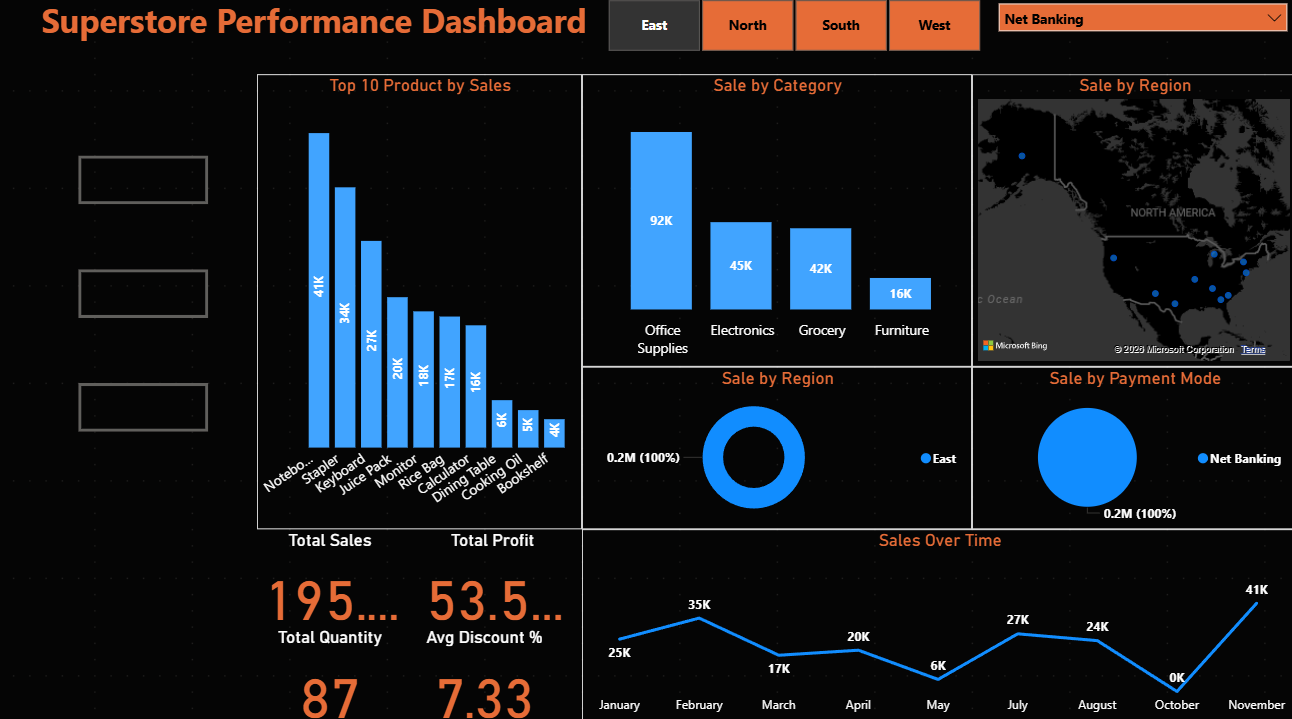

What the dashboard file says about the page in this screenshot:
{"tool":"powerbi","page":{"name":"Page 1","canvas":[1280,720],"ordinal":0},"visuals":[{"type":"actionButton","box":[80,160,128,48],"z":0},{"type":"actionButton","box":[80,384,128,48],"z":1000},{"type":"actionButton","box":[80,272,128,48],"z":2000},{"type":"textbox","box":[16,0,592,64],"z":3000},{"type":"slicer","fields":{"Values":["Superstore_Management_System.Region"]},"box":[576,0,416,64],"z":4000},{"type":"slicer","fields":{"Values":["Superstore_Management_System.Payment Mode"]},"box":[976,0,304,64],"z":5000},{"type":"clusteredColumnChart","title":"Sale by Category","fields":{"Category":["Superstore_Management_System.Category"],"Y":["Sum(Superstore_Management_System.Sales Amount)"]},"box":[576,80,384,288],"z":6000},{"type":"map","title":"Sale by Region","fields":{"Category":["Superstore_Management_System.State"],"Series":["Superstore_Management_System.Region"]},"box":[960,80,320,288],"z":7000},{"type":"donutChart","title":"Sale by Region","fields":{"Category":["Superstore_Management_System.Region"],"Y":["Sum(Superstore_Management_System.Sales Amount)"]},"box":[576,368,384,160],"z":8000},{"type":"pieChart","title":"Sale by Payment Mode","fields":{"Category":["Superstore_Management_System.Payment Mode"],"Y":["Sum(Superstore_Management_System.Sales Amount)"]},"box":[960,368,320,160],"z":9000},{"type":"lineChart","title":"Sales Over Time","fields":{"Category":["Superstore_Management_System.Order Date.Variation.Date Hierarchy.Month"],"Y":["Sum(Superstore_Management_System.Sales Amount)"]},"box":[576,528,704,192],"z":10000},{"type":"clusteredColumnChart","title":"Top 10 Product by Sales","fields":{"Category":["Superstore_Management_System.Product Name"],"Y":["Sum(Superstore_Management_System.Sales Amount)"]},"box":[256,80,320,448],"z":11000},{"type":"cardVisual","title":"Total Sales","fields":{"Data":["Sum(Superstore_Management_System.Sales Amount)"]},"box":[240,528,176,96],"z":12000},{"type":"cardVisual","title":"Total Profit","fields":{"Data":["Sum(Superstore_Management_System.Profit)"]},"box":[400,528,176,96],"z":13000},{"type":"cardVisual","title":"Total Quantity","fields":{"Data":["Sum(Superstore_Management_System.Quantity)"]},"box":[240,624,176,96],"z":14000},{"type":"cardVisual","title":"Avg Discount %","fields":{"Data":["Avg(Superstore_Management_System.Discount (%))"]},"box":[384,624,192,96],"z":15000}]}

Visuals, with their boxes in screenshot pixels (x1, y1, x2, y2), scaled from the page's 1280x720 canvas onto the 1292x719 screenshot:
actionButton: crop(81, 160, 210, 208)
actionButton: crop(81, 383, 210, 431)
actionButton: crop(81, 272, 210, 320)
textbox: crop(16, 0, 614, 64)
slicer - Superstore_Management_System.Region: crop(581, 0, 1001, 64)
slicer - Superstore_Management_System.Payment Mode: crop(985, 0, 1291, 64)
"Sale by Category" clusteredColumnChart: crop(581, 80, 969, 367)
"Sale by Region" map: crop(969, 80, 1291, 367)
"Sale by Region" donutChart: crop(581, 367, 969, 527)
"Sale by Payment Mode" pieChart: crop(969, 367, 1291, 527)
"Sales Over Time" lineChart: crop(581, 527, 1291, 718)
"Top 10 Product by Sales" clusteredColumnChart: crop(258, 80, 581, 527)
"Total Sales" cardVisual: crop(242, 527, 420, 623)
"Total Profit" cardVisual: crop(404, 527, 581, 623)
"Total Quantity" cardVisual: crop(242, 623, 420, 718)
"Avg Discount %" cardVisual: crop(388, 623, 581, 718)
